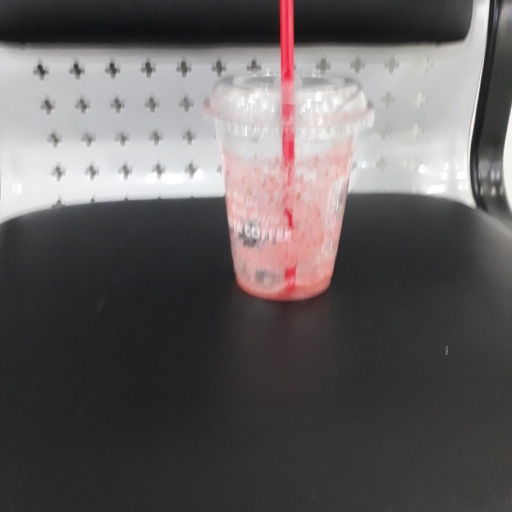Plastic_2: (214, 44, 375, 298)
